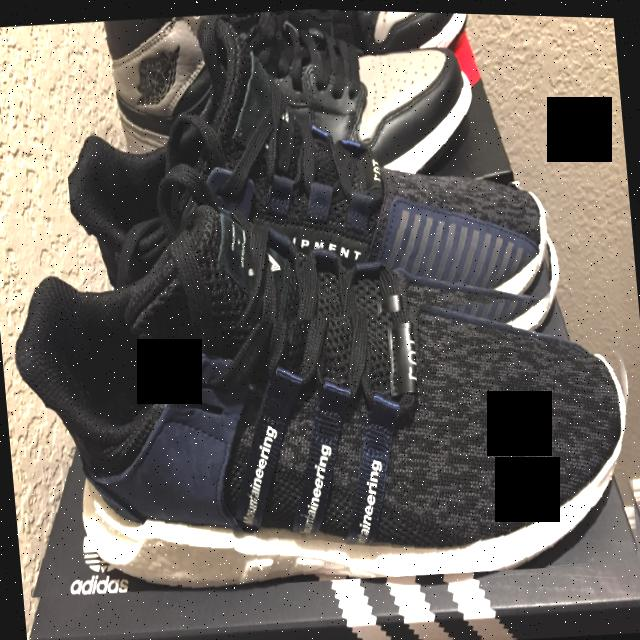shoe: (0, 165, 640, 611), (54, 1, 563, 349), (101, 2, 487, 213)
